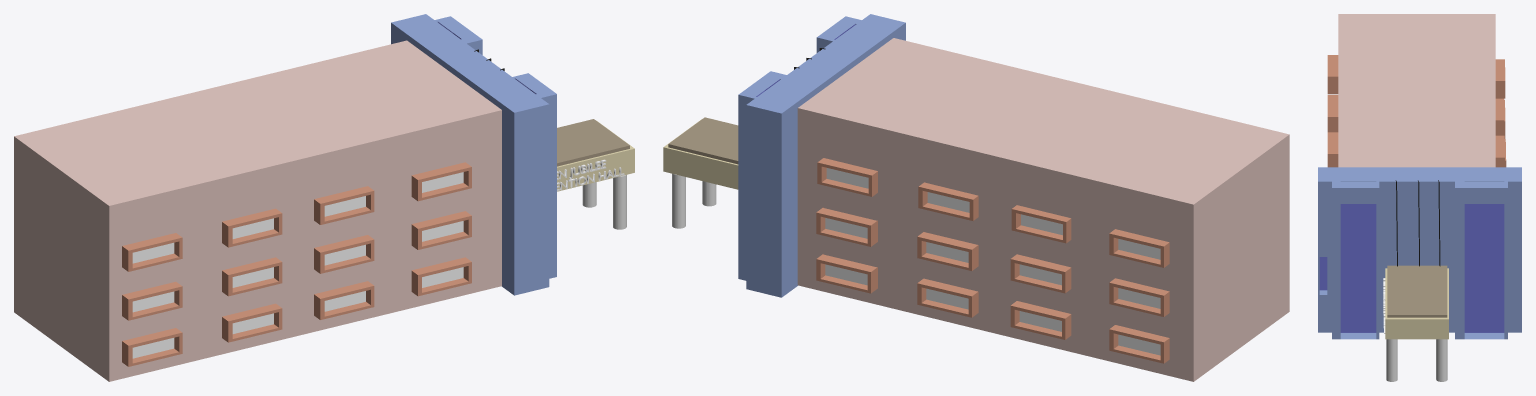
Rendered from goldenjubileev1.glb.
3 views of the same model, side by side, from view 1: azimuth 30°, elevation 25°; view 2: azimuth 150°, elevation 25°; view 3: azimuth 270°, elevation 25° (orthographic). The views are drawn at different scales.
Visible parts, largest first — view 1: Cube, Cube.026, Cube.029, Cube.005, Cube.012, Cube.001, Cube.002, Cube.004, Cube.007, Cube.010, Cube.006, Cube.008 (+6 smaller); view 2: Cube, Cube.026, Cube.029, Cube.028, Cube.017, Cube.021, Cube.022, Cube.018, Cube.019, Cube.023, Cube.013, Cube.016 (+5 smaller); view 3: Cube.026, Cube, Cube.029, Cube.028, Cylinder, Cylinder.001, Cube.001, Cube.002, Cube.016, Cube.003, Cube.015, Cube.014.
Boxes of the visible parts, box(x1,y1,x2,y2) form: Cube: box(14, 40, 501, 381); Cube.026: box(391, 14, 556, 295); Cube.029: box(557, 119, 629, 166); Cube.005: box(122, 281, 182, 320); Cube.012: box(411, 257, 471, 296); Cube.001: box(122, 233, 182, 271); Cube.002: box(222, 208, 282, 247); Cube.004: box(411, 162, 471, 201); Cube.007: box(314, 235, 374, 273); Cube.010: box(222, 303, 282, 342); Cube.006: box(222, 257, 282, 296); Cube.008: box(411, 211, 471, 249); Cube: box(797, 38, 1289, 381); Cube.026: box(738, 14, 905, 297); Cube.029: box(668, 117, 738, 164); Cube.028: box(663, 119, 738, 189); Cube.017: box(816, 207, 877, 246); Cube.021: box(816, 254, 877, 293); Cube.022: box(917, 278, 978, 317); Cube.018: box(917, 232, 978, 270); Cube.019: box(1010, 254, 1071, 293); Cube.023: box(1010, 301, 1071, 339); Cube.013: box(817, 158, 877, 196); Cube.016: box(1109, 229, 1169, 267); Cube.026: box(1318, 167, 1521, 339); Cube: box(1338, 14, 1495, 167); Cube.029: box(1387, 265, 1447, 317); Cube.028: box(1385, 268, 1448, 339); Cylinder: box(1386, 339, 1397, 381); Cylinder.001: box(1436, 339, 1447, 381); Cube.001: box(1327, 55, 1338, 94); Cube.002: box(1327, 95, 1338, 132); Cube.016: box(1495, 59, 1505, 98); Cube.003: box(1327, 132, 1338, 167); Cube.015: box(1495, 98, 1504, 135); Cube.014: box(1495, 135, 1504, 167).
Bounding box in the file's own units: 18.31 × 5.94 × 7.06.
